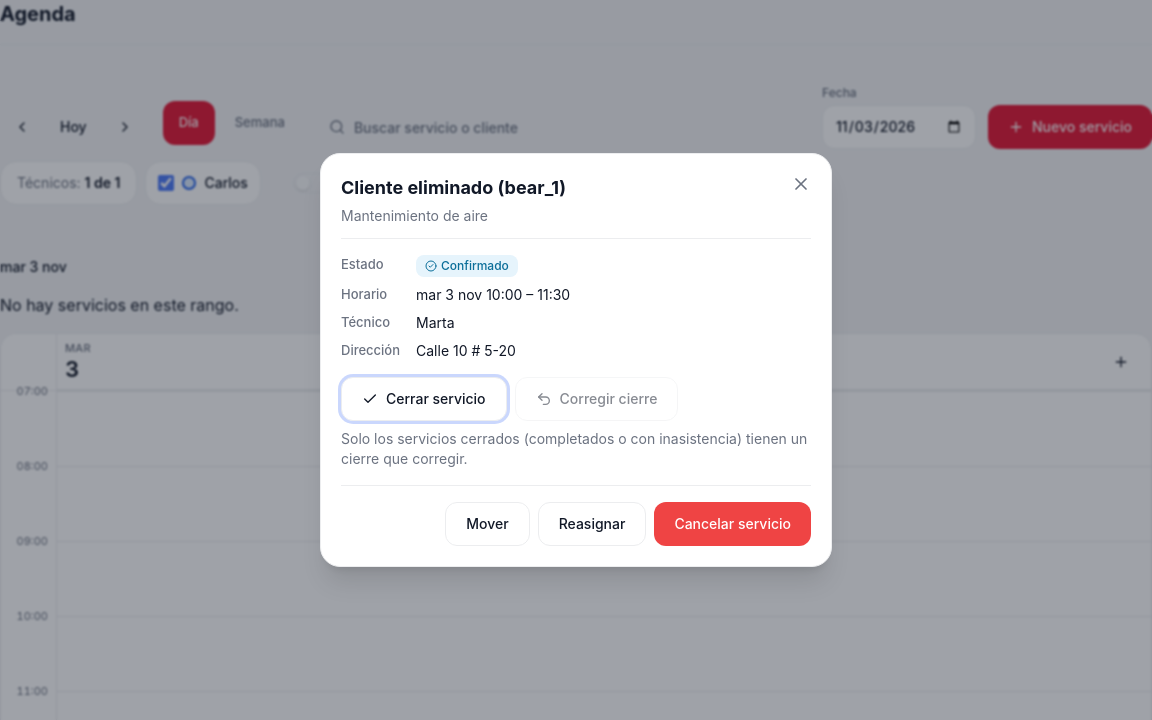
AgendaPage: abrir un servicio por enlace › un cliente anonimizado se muestra con su alias en la ficha y en "Cancelar servicio"
Check: the dialog "Cliente eliminado (bear_1)" is shown, box x1=320 y1=153 x2=832 y2=567
Click the button "Cancelar servicio". click: (733, 524)
box: x1=654 y1=502 x2=811 y2=546
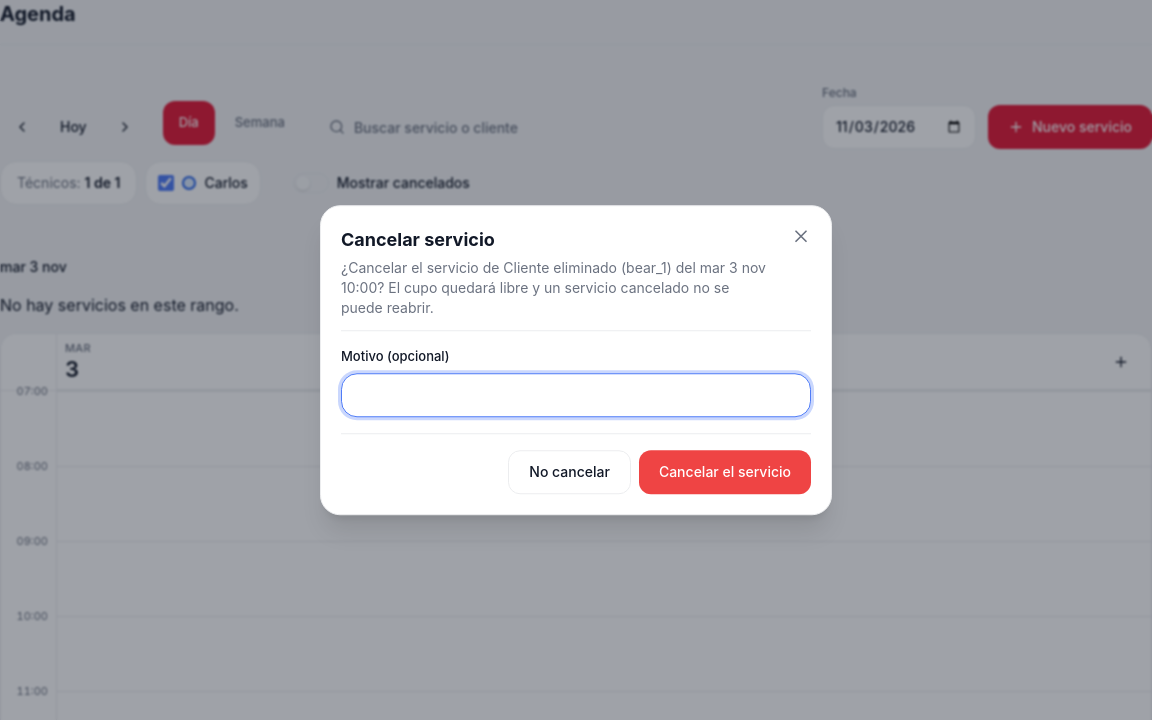
Check: the dialog shows "¿Cancelar el servicio de Cliente eliminado (bear_1)", box x1=320 y1=205 x2=832 y2=515
